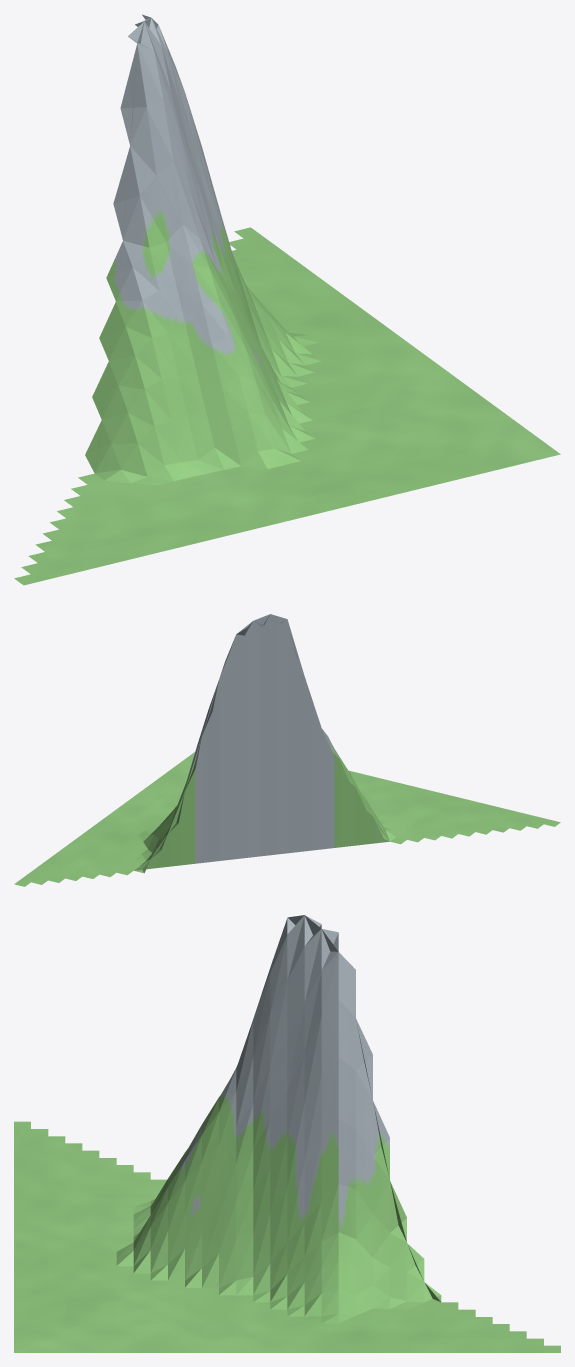
File: Grass_RockyMountains_04_NE.obj
The picture shows the model from 3 angles, top to bottom: view 1: azimuth 30°, elevation 25°; view 2: azimuth 150°, elevation 25°; view 3: azimuth 270°, elevation 25°; orthographic projection. The views are drawn at different scales.
Size of the model in its own units: 10 by 6.65 by 10.
1 material, 1 textured.
